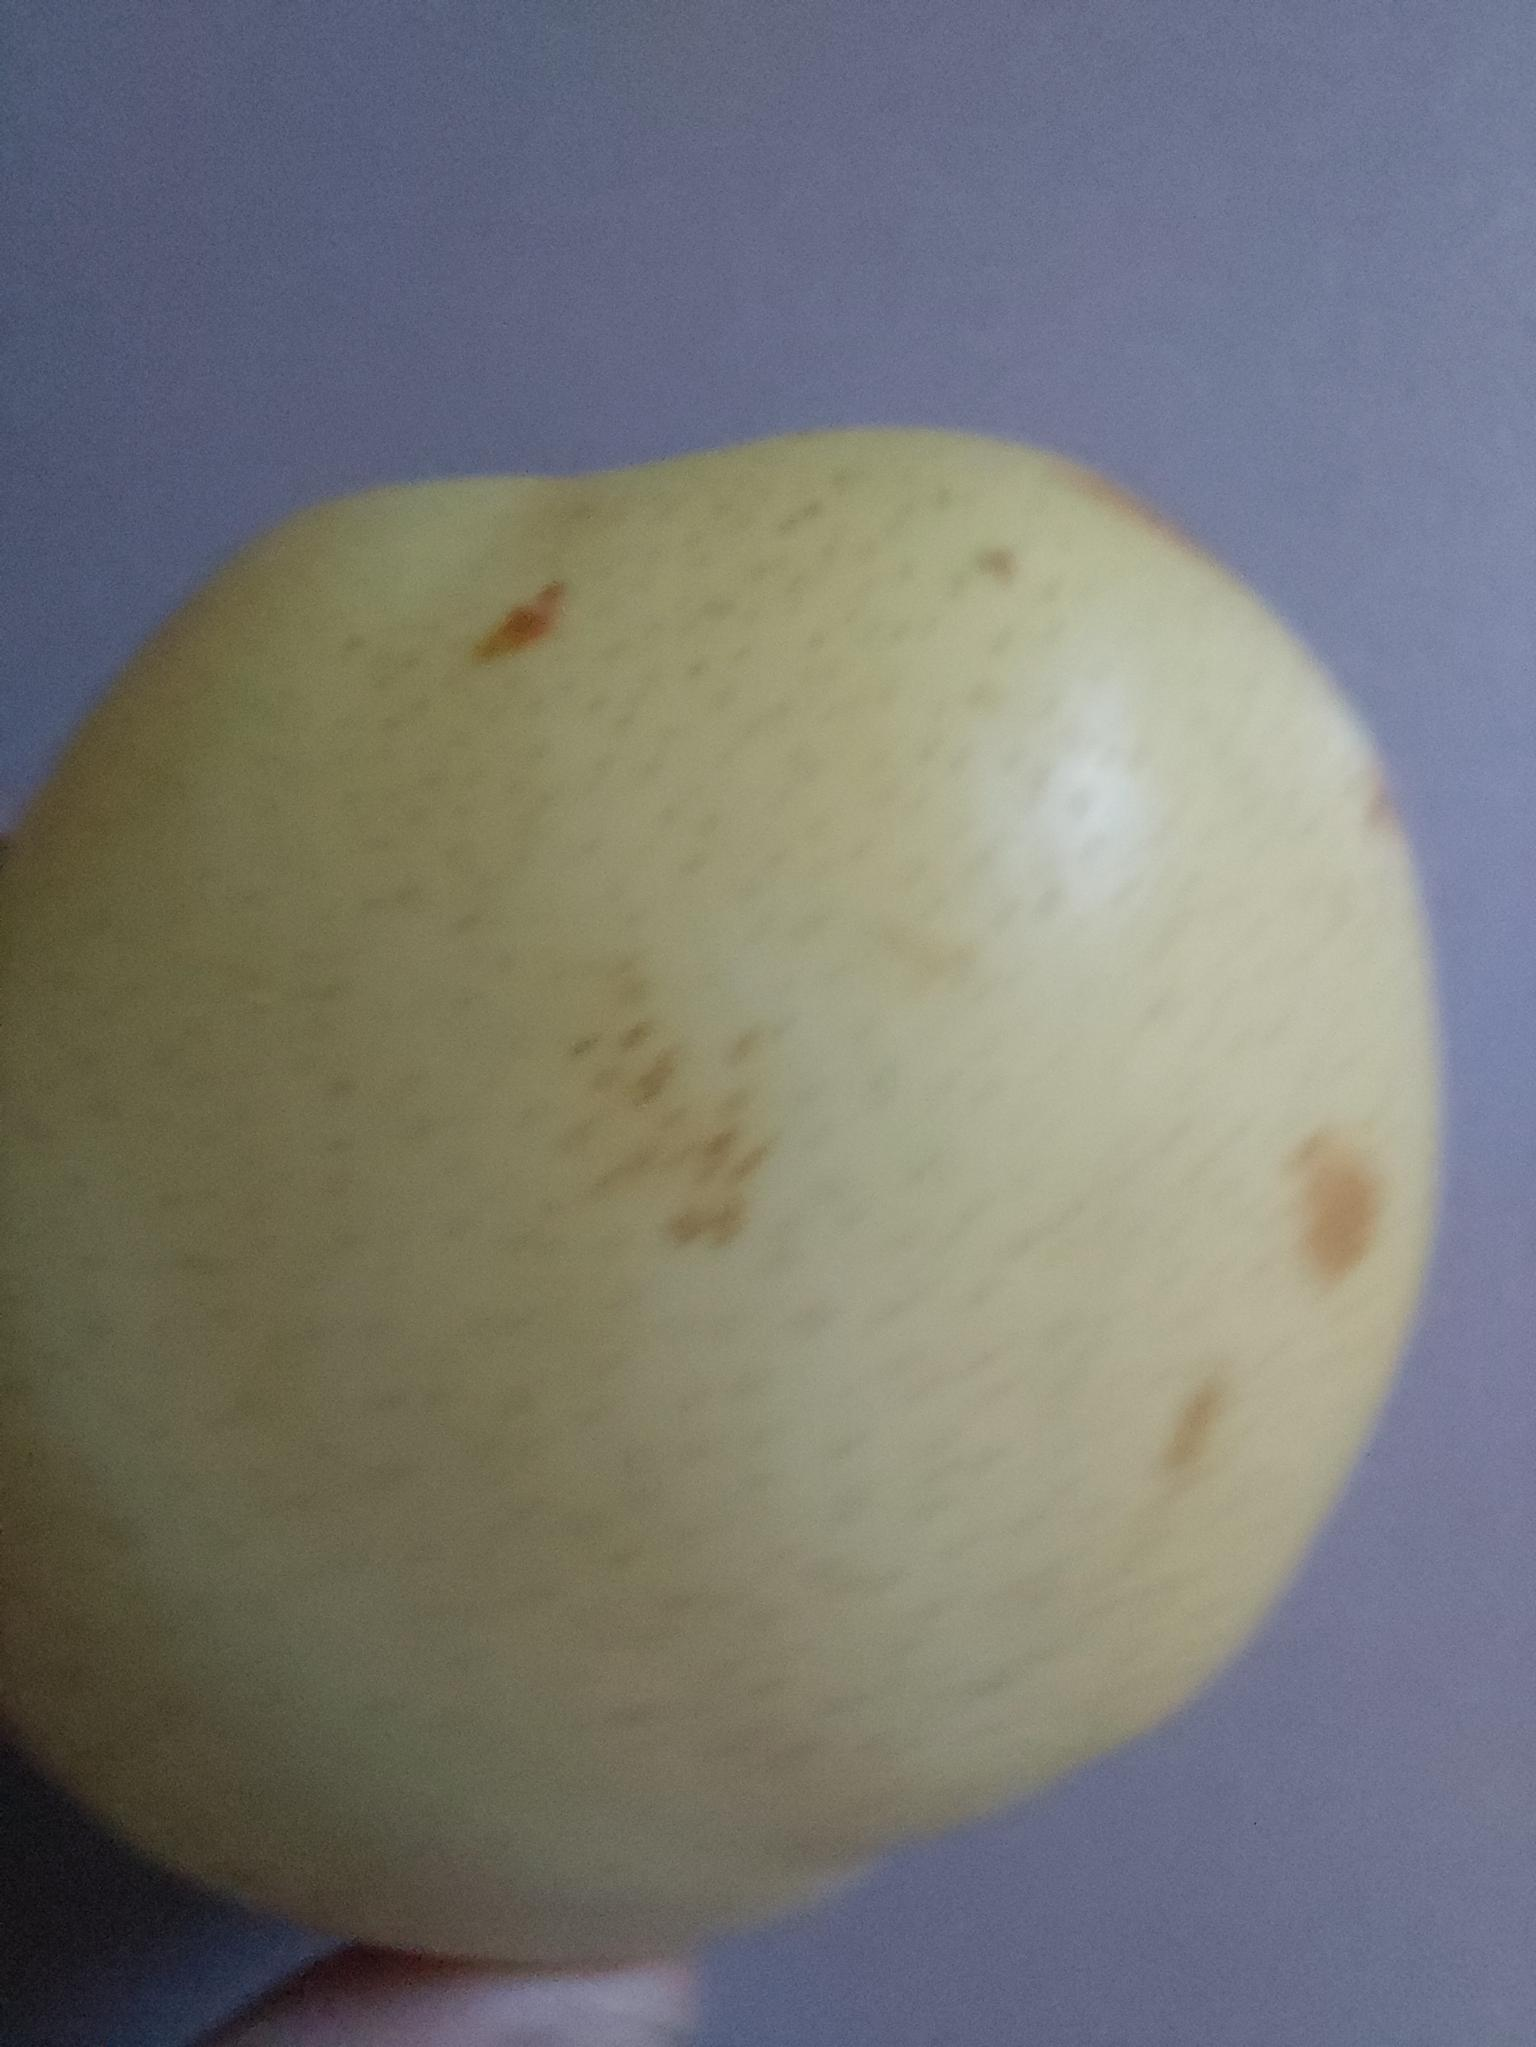Good Pear: (0, 431, 1462, 1926)
